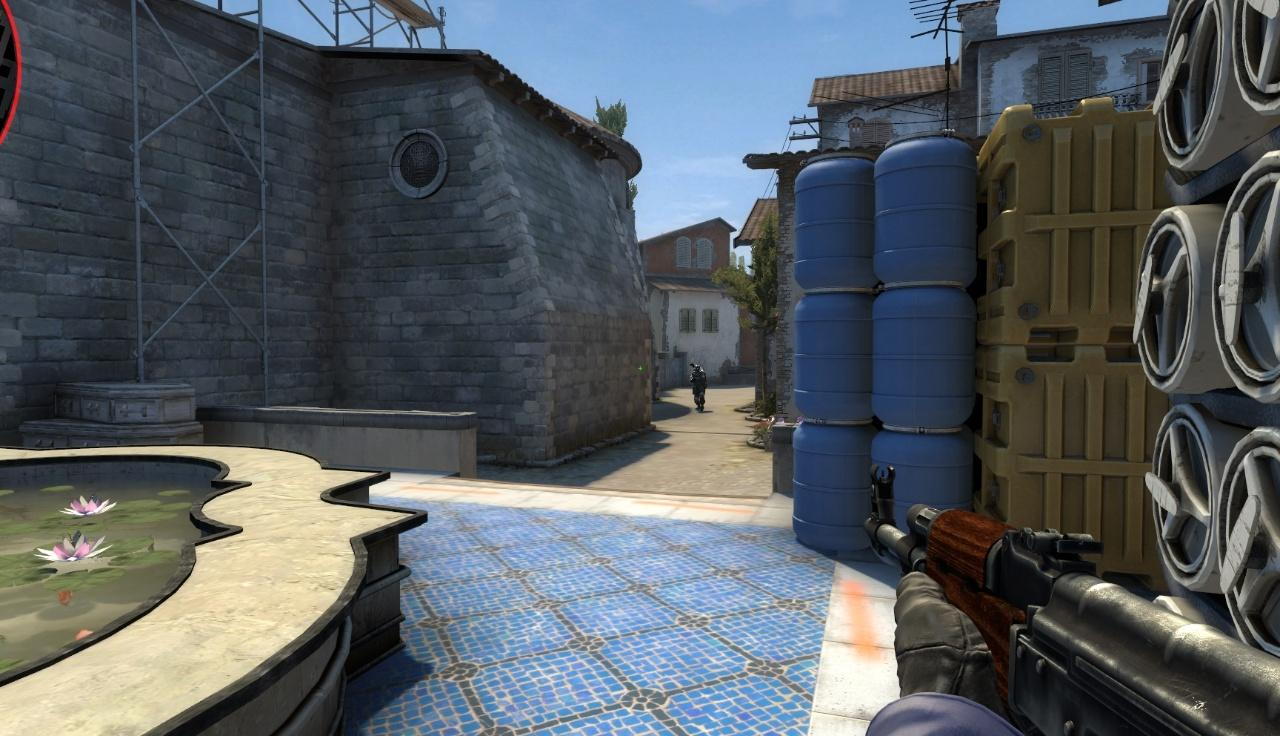ct: (689, 363, 707, 411)
cthead: (694, 365, 701, 373)
rifle: (868, 487, 1277, 735)
